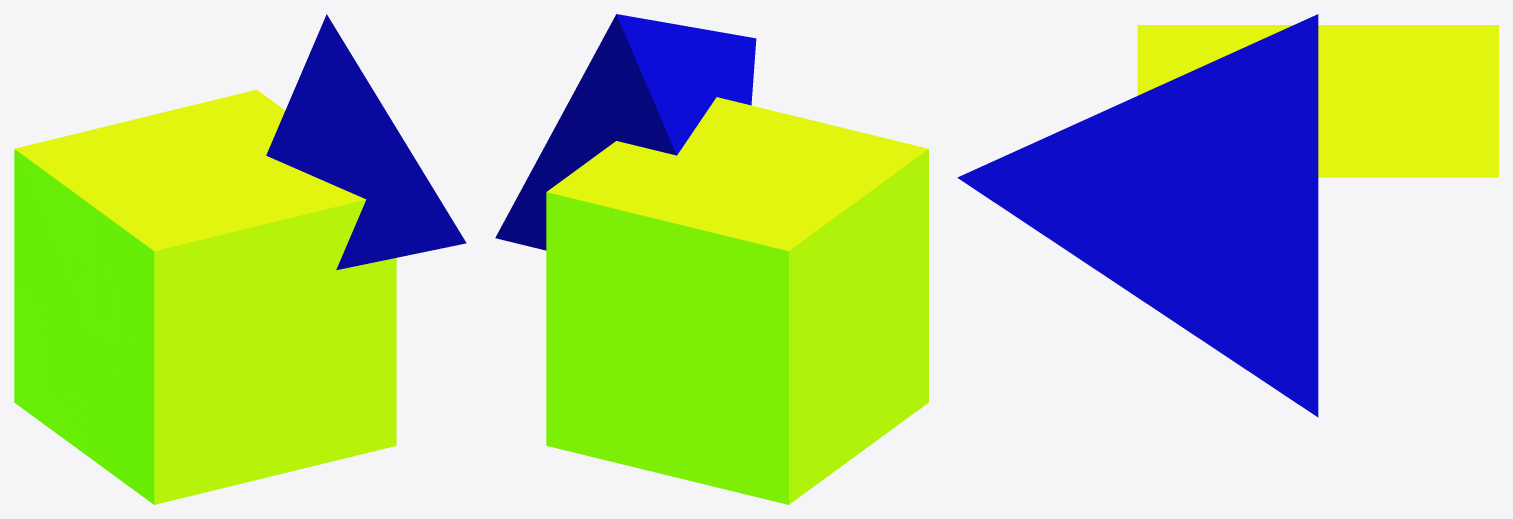
File: cube_default_sampler.glb
3 renders of one model, left to right at view 1: azimuth 30°, elevation 25°; view 2: azimuth 150°, elevation 25°; view 3: azimuth 270°, elevation 25°, orthographic. The views are drawn at different scales.
Parts seen in each view (by area): view 1: root; view 2: root; view 3: root.
Part boxes in pixels (bbox=[...]): root: bbox=[14, 14, 466, 504]; root: bbox=[495, 14, 928, 504]; root: bbox=[957, 14, 1498, 417].
Bounding box in the file's own units: 1.5 × 1.5 × 1.5.
Materials: 2 (1 with a texture image).
